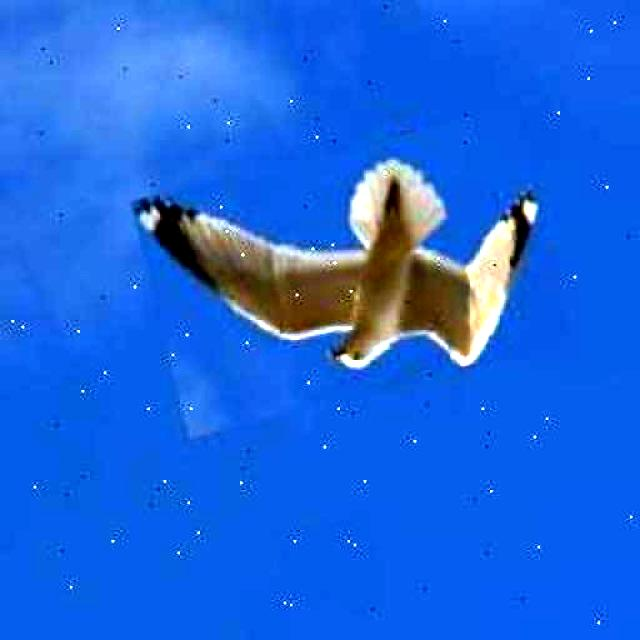airplane: (130, 105, 574, 438)
